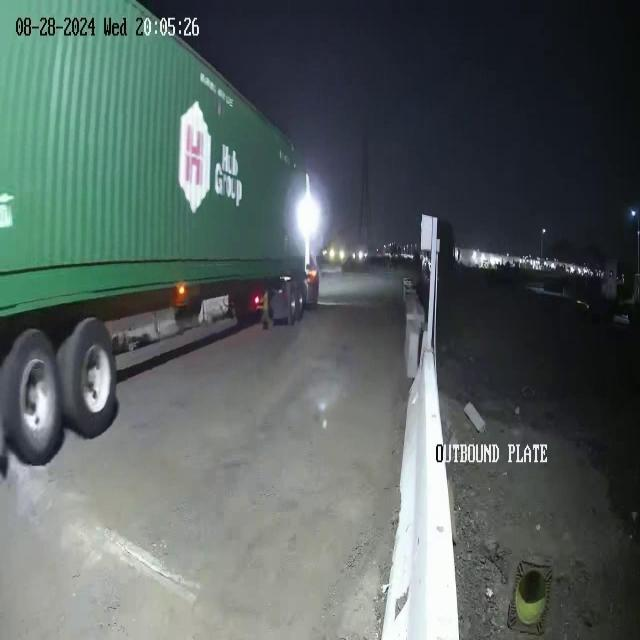TRUCK_CONTAINER: (0, 0, 318, 468)
